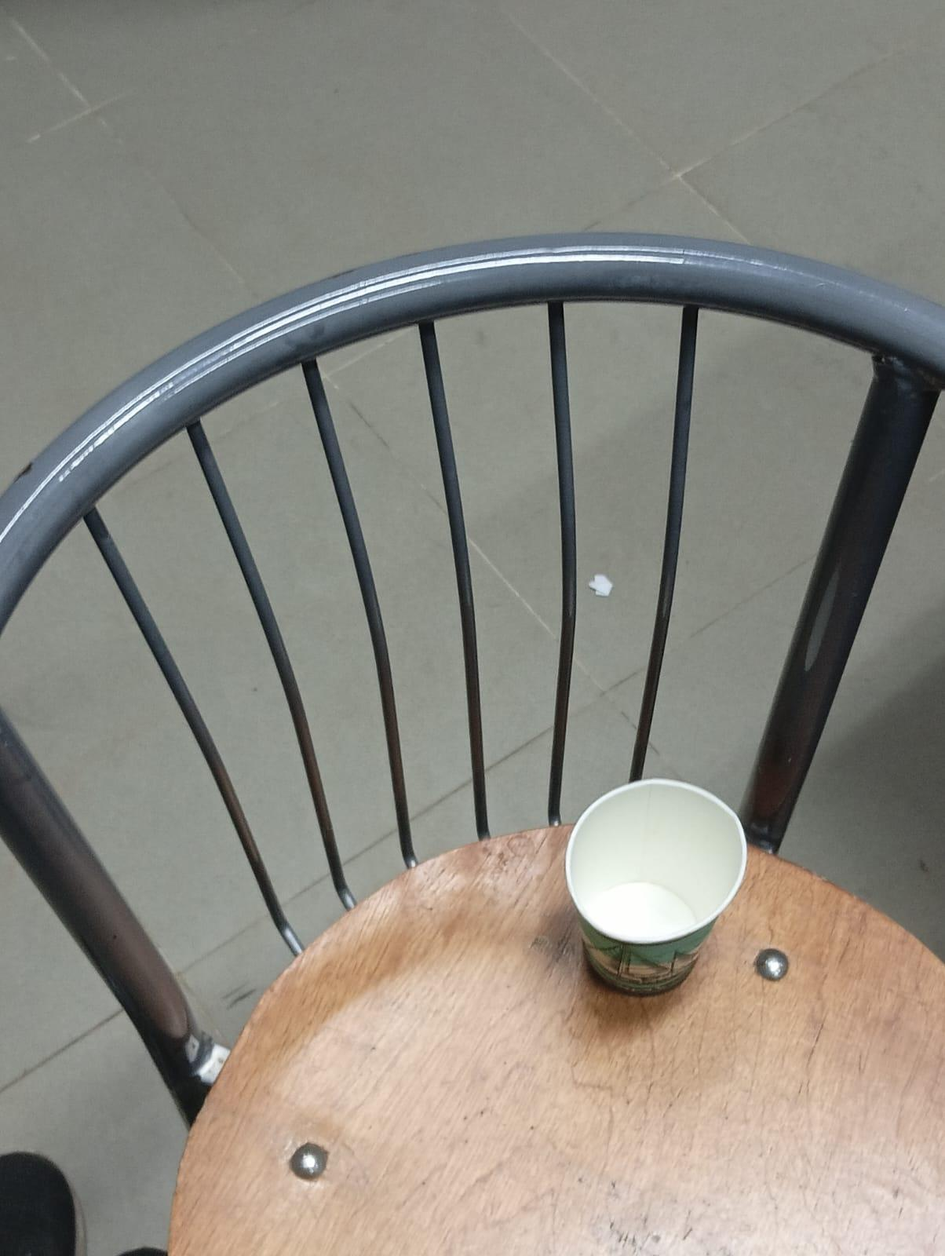cup: (565, 779, 747, 994)
